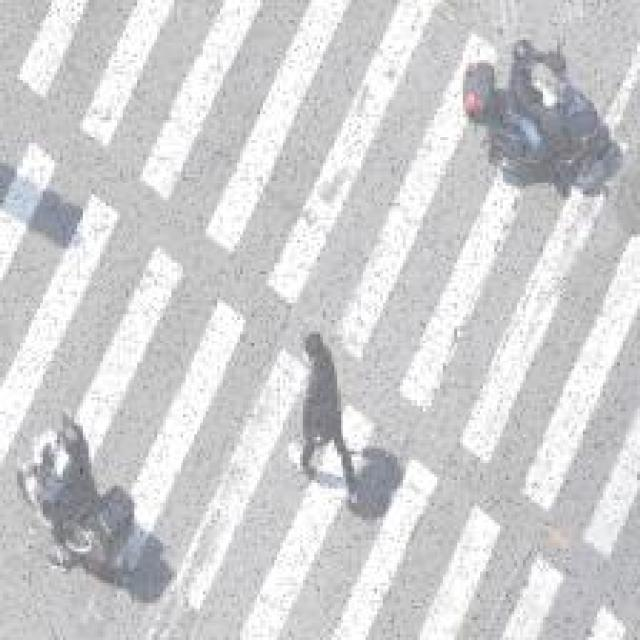walk-crossing: (6, 0, 637, 637)
